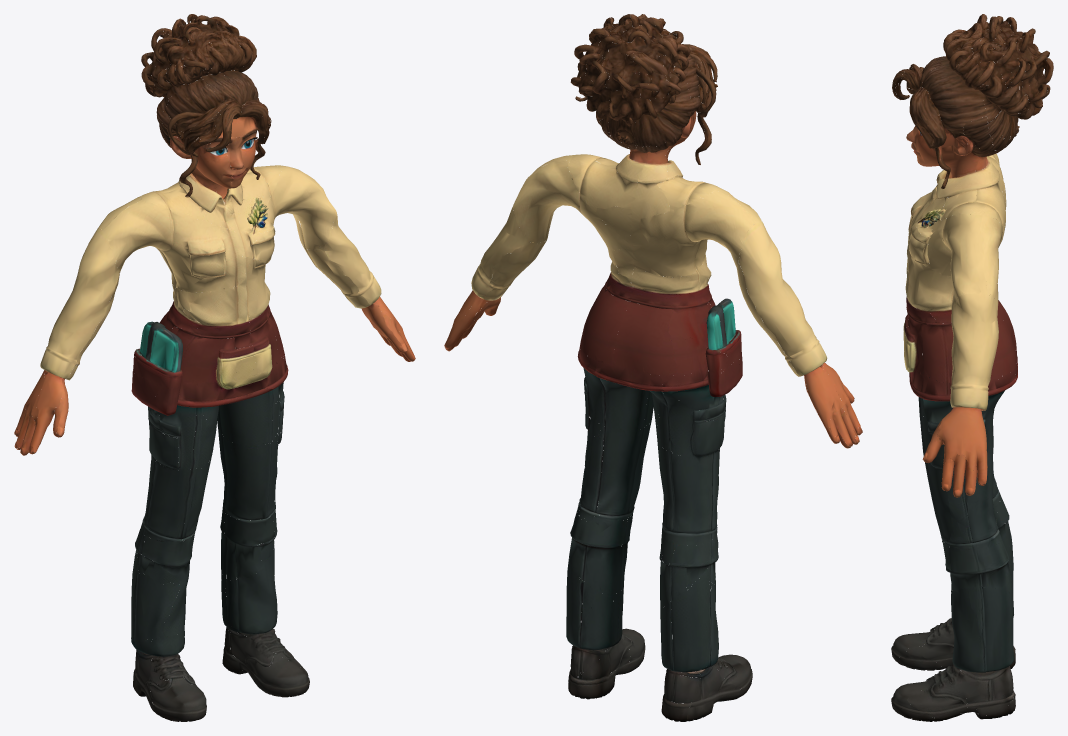
File: juniper-waiter.glb
3 renders of one model, left to right at view 1: azimuth 30°, elevation 25°; view 2: azimuth 150°, elevation 25°; view 3: azimuth 270°, elevation 25°, orthographic. The views are drawn at different scales.
Parts seen in each view (by area): view 1: tripo_node_775549b0-2529-45c8-ab84-26ae19bb1617; view 2: tripo_node_775549b0-2529-45c8-ab84-26ae19bb1617; view 3: tripo_node_775549b0-2529-45c8-ab84-26ae19bb1617.
Part boxes in pixels (x1,y1,x2,y2): tripo_node_775549b0-2529-45c8-ab84-26ae19bb1617: [14, 14, 415, 721]; tripo_node_775549b0-2529-45c8-ab84-26ae19bb1617: [444, 14, 862, 721]; tripo_node_775549b0-2529-45c8-ab84-26ae19bb1617: [891, 14, 1053, 721].
Size of the model in its own units: 0.6083 by 0.9811 by 0.2151.
1 material, 1 textured.
